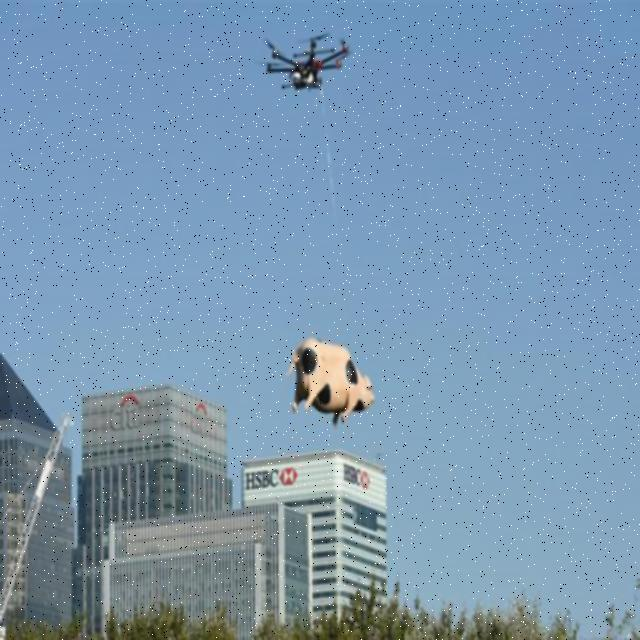UAV: (262, 30, 350, 94)
